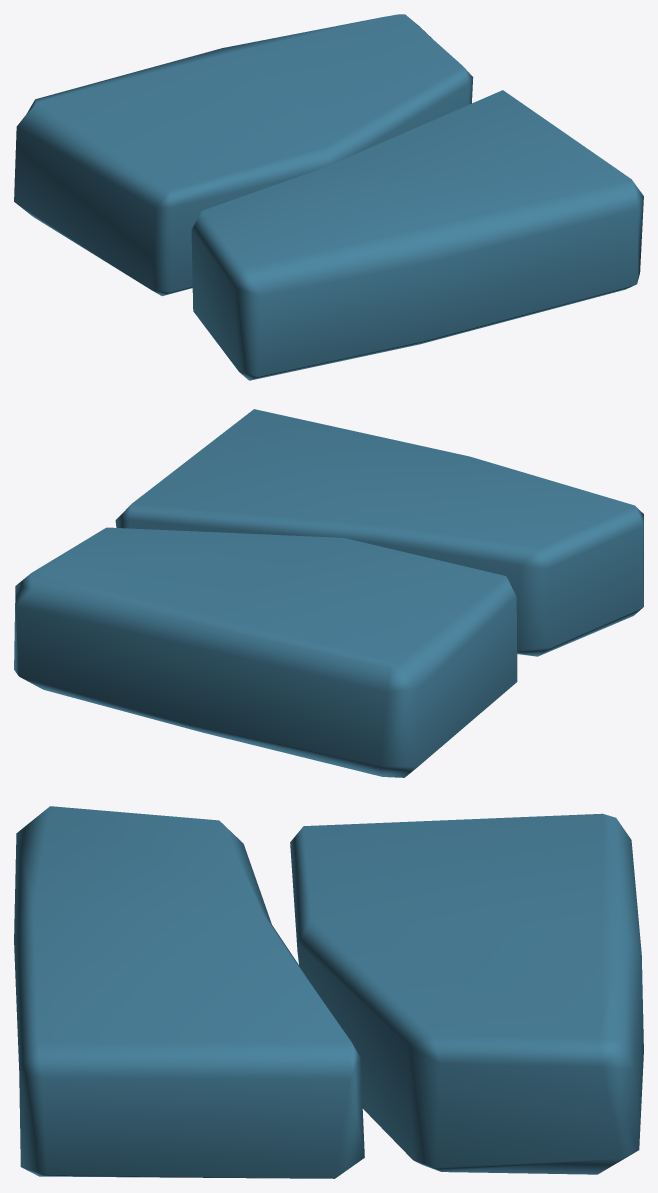
Rendered from Floor_01_Slab_Lod0.fbx.
3 views of the same model, one above another, from view 1: azimuth 30°, elevation 25°; view 2: azimuth 150°, elevation 25°; view 3: azimuth 270°, elevation 25° (orthographic). The views are drawn at different scales.
Parts seen in each view (by area): view 1: Floor_01_Slab_Lod0; view 2: Floor_01_Slab_Lod0; view 3: Floor_01_Slab_Lod0.
Part boxes in pixels (x1=…): Floor_01_Slab_Lod0: x1=14, y1=14, x2=643, y2=380; Floor_01_Slab_Lod0: x1=14, y1=409, x2=643, y2=777; Floor_01_Slab_Lod0: x1=14, y1=806, x2=643, y2=1178.
Size of the model in its own units: 36.49 by 9.91 by 39.03.
